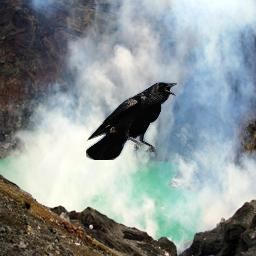Crow: (86, 81, 177, 160)
